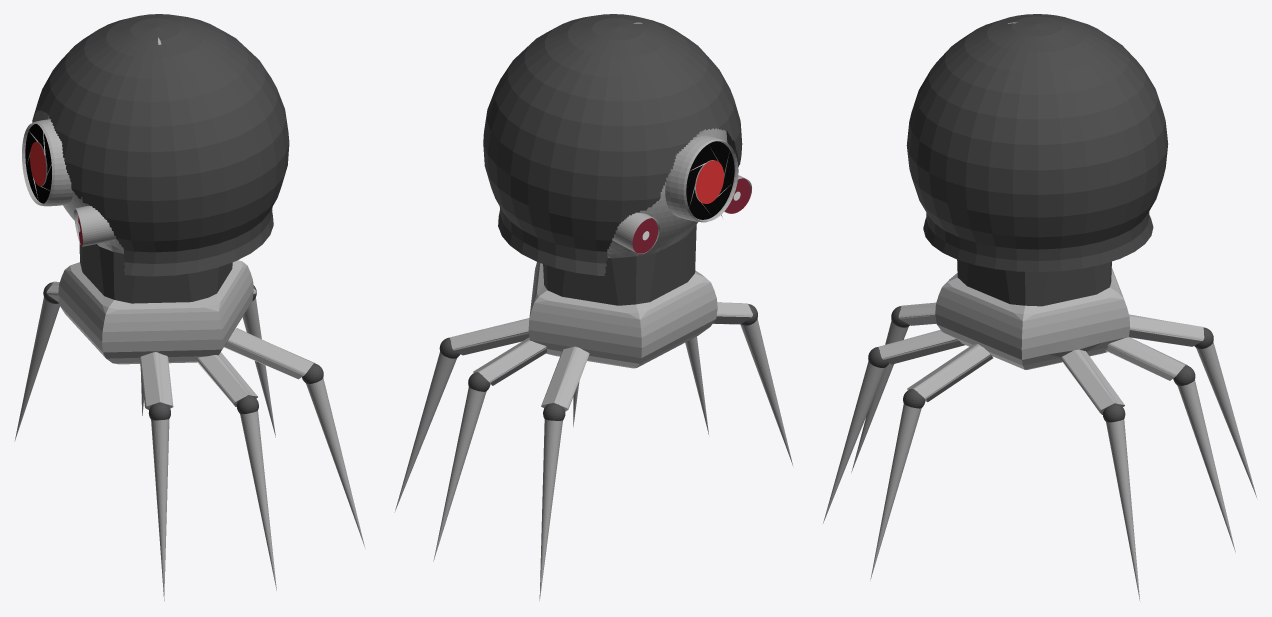
Rendered from unite.fbx.
The picture shows the model from 3 angles, left to right: view 1: azimuth 30°, elevation 25°; view 2: azimuth 150°, elevation 25°; view 3: azimuth 270°, elevation 25°; orthographic projection.
Visible parts, largest first — view 1: Cube; view 2: Cube; view 3: Cube.
Part boxes in pixels (x1=…): Cube: x1=14, y1=14, x2=364, y2=600; Cube: x1=394, y1=14, x2=792, y2=600; Cube: x1=823, y1=14, x2=1256, y2=600.
Bounding box in the file's own units: 2.43 × 4.01 × 3.19.
